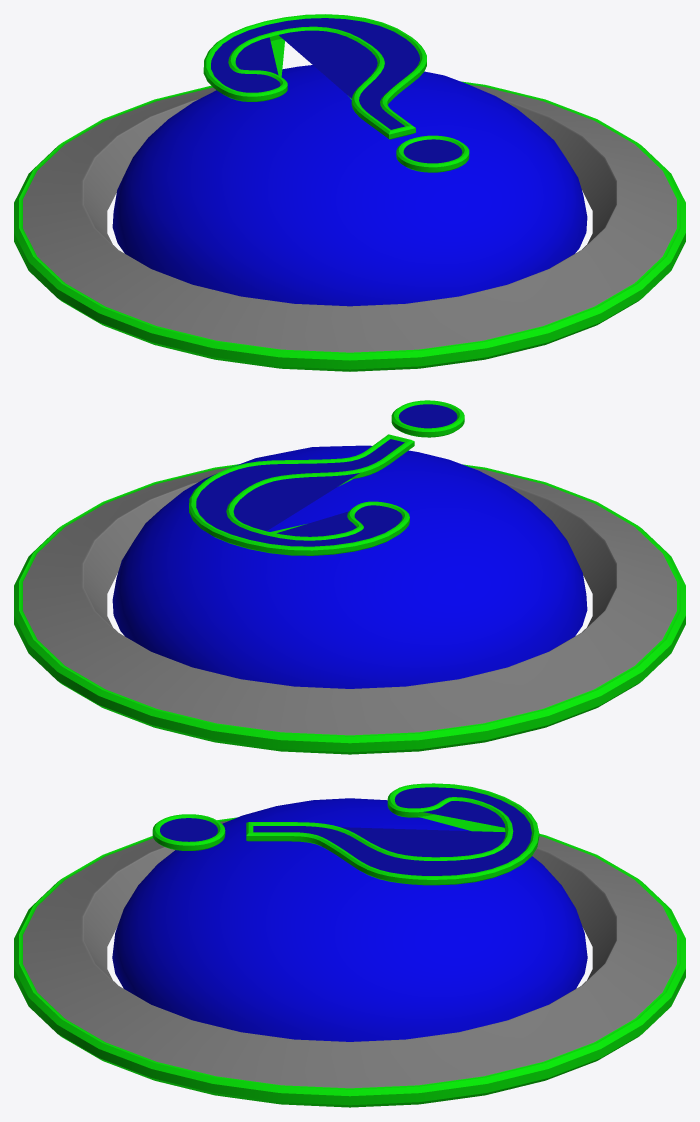
File: ButtonQuestion.fbx
3 renders of one model, top to bottom at view 1: azimuth 30°, elevation 25°; view 2: azimuth 150°, elevation 25°; view 3: azimuth 270°, elevation 25°, orthographic.
Parts seen in each view (by area): view 1: ButtonQuestion; view 2: ButtonQuestion; view 3: ButtonQuestion.
Part boxes in pixels (x1=…): ButtonQuestion: x1=14, y1=14, x2=685, y2=371; ButtonQuestion: x1=14, y1=400, x2=685, y2=754; ButtonQuestion: x1=14, y1=783, x2=685, y2=1107.
Size of the model in its own units: 2.84 by 0.6476 by 2.83.
